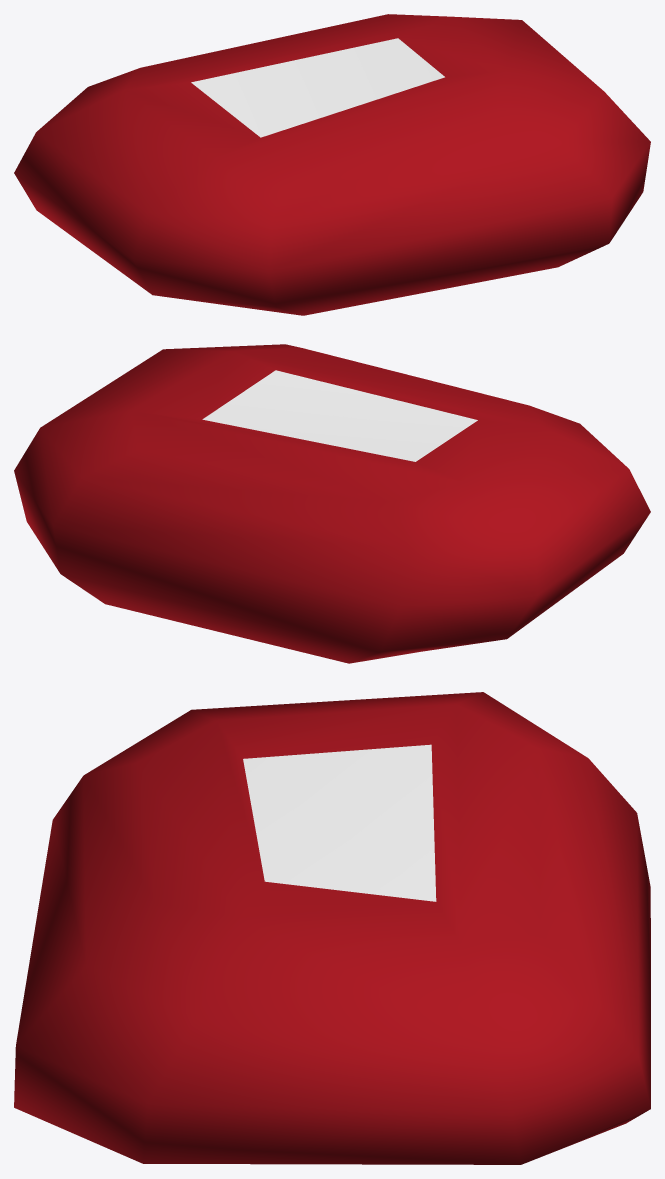
File: Props_Package_04.fbx
3 renders of one model, top to bottom at view 1: azimuth 30°, elevation 25°; view 2: azimuth 150°, elevation 25°; view 3: azimuth 270°, elevation 25°, orthographic. The views are drawn at different scales.
Parts seen in each view (by area): view 1: Props_Package_04; view 2: Props_Package_04; view 3: Props_Package_04.
Boxes of the visible parts, x1,y1,x2,y2 form: Props_Package_04: [14, 14, 650, 315]; Props_Package_04: [14, 344, 650, 663]; Props_Package_04: [14, 692, 650, 1164].
Bounding box in the file's own units: 63.85 × 18.36 × 47.65.
